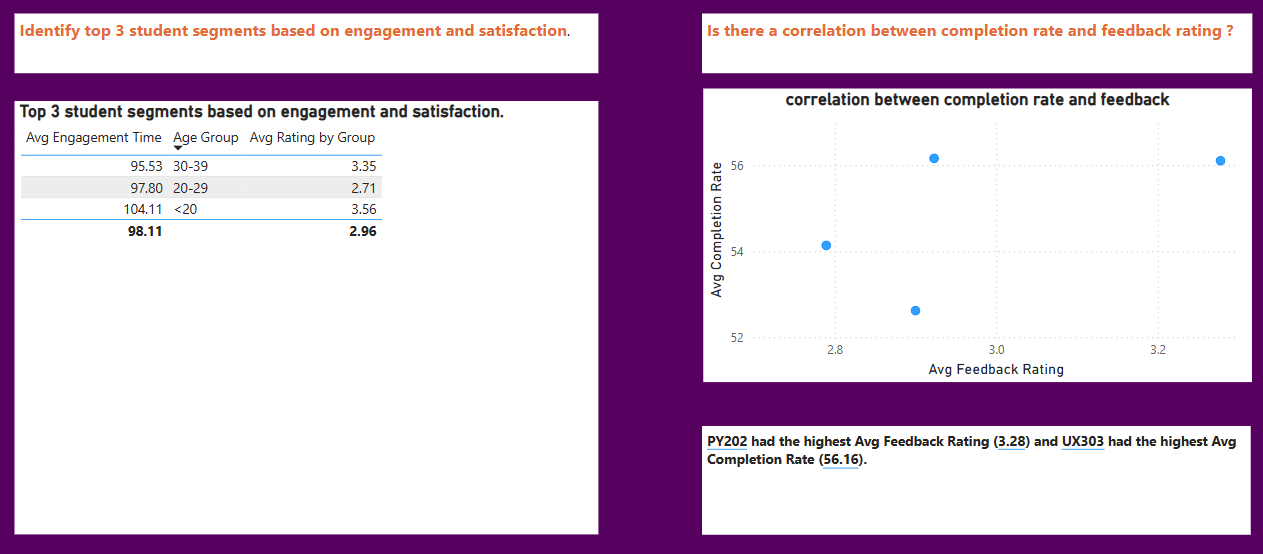

This screenshot's page, from the dashboard's own definition file:
{"tool":"powerbi","page":{"name":"Page 3","canvas":[1280,720],"ordinal":2},"visuals":[{"type":"tableEx","title":"Top 3 student segments based on engagement and satisfaction.","fields":{"Values":["course_activity.Avg Engagement Time","students.Age Group","feedback.Avg Rating by Group"]},"box":[31.8,244.6,571.1,424.3],"z":0},{"type":"scatterChart","title":"correlation between completion rate and feedback ","fields":{"X":["course_activity.Avg Feedback Rating"],"Y":["course_activity.Avg Completion Rate"],"Category":["course_activity.Course_ID"]},"box":[705.6,232.3,536.8,287.4],"z":1000},{"type":"textbox","box":[704.4,562.5,536.8,106.4],"z":2000},{"type":"textbox","box":[704.4,159,538,58.7],"z":3000},{"type":"textbox","box":[31.8,159,571.1,58.7],"z":4000}]}

Visuals, with their boxes on the page's 1280x720 design canvas (x1, y1, x2, y2). These are canvas units, not pixel positions in the 1263x554 screenshot, which may show the page scaled, cropped or inside an application window:
"Top 3 student segments based on engagement and satisfaction." tableEx: box=[32, 245, 603, 669]
"correlation between completion rate and feedback " scatterChart: box=[706, 232, 1242, 520]
textbox: box=[704, 562, 1241, 669]
textbox: box=[704, 159, 1242, 218]
textbox: box=[32, 159, 603, 218]
